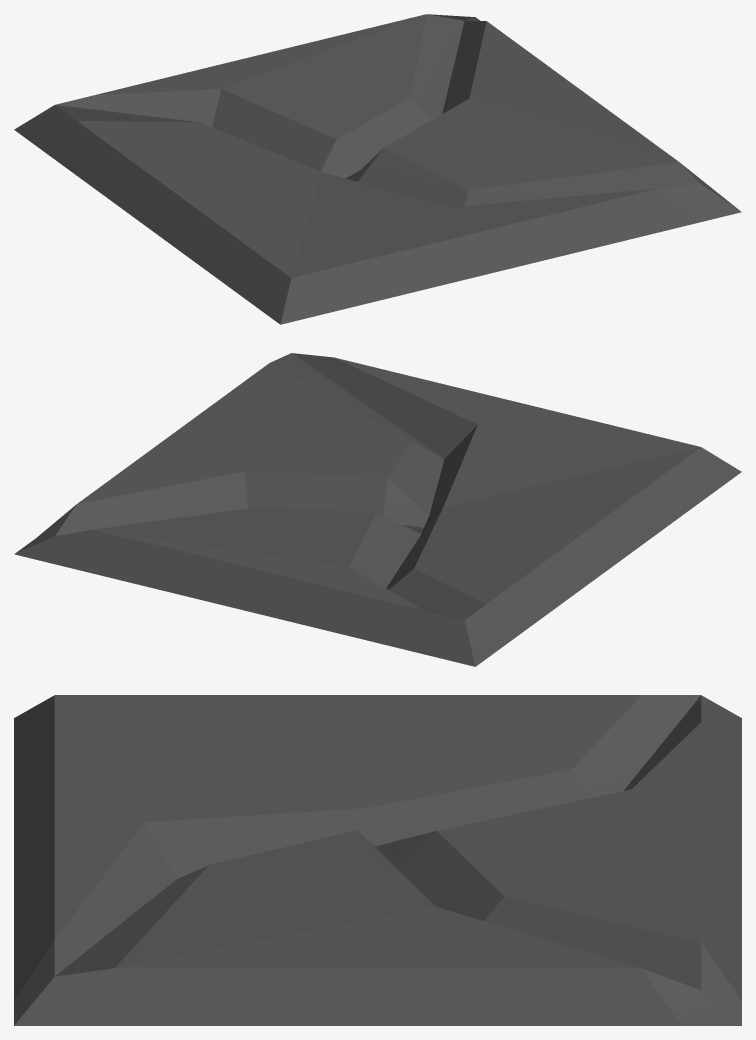
File: Floor_tile_cracked_mid_C.fbx
3 renders of one model, top to bottom at view 1: azimuth 30°, elevation 25°; view 2: azimuth 150°, elevation 25°; view 3: azimuth 270°, elevation 25°, orthographic. The views are drawn at different scales.
Visible parts, largest first — view 1: Floor_tile_cracked_mid_C; view 2: Floor_tile_cracked_mid_C; view 3: Floor_tile_cracked_mid_C.
Boxes of the visible parts, box(x1,y1,x2,y2) form: Floor_tile_cracked_mid_C: box(14, 14, 741, 324); Floor_tile_cracked_mid_C: box(14, 353, 741, 666); Floor_tile_cracked_mid_C: box(14, 695, 741, 1025).
Size of the model in its own units: 100 by 6.82 by 100.
